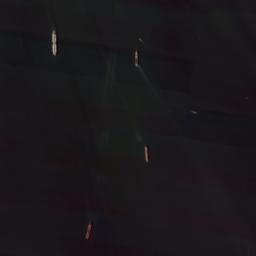boat: (86, 221, 92, 238), (52, 30, 56, 55), (144, 144, 148, 162), (134, 50, 138, 66), (246, 96, 248, 98), (194, 112, 196, 112), (139, 37, 139, 39)
